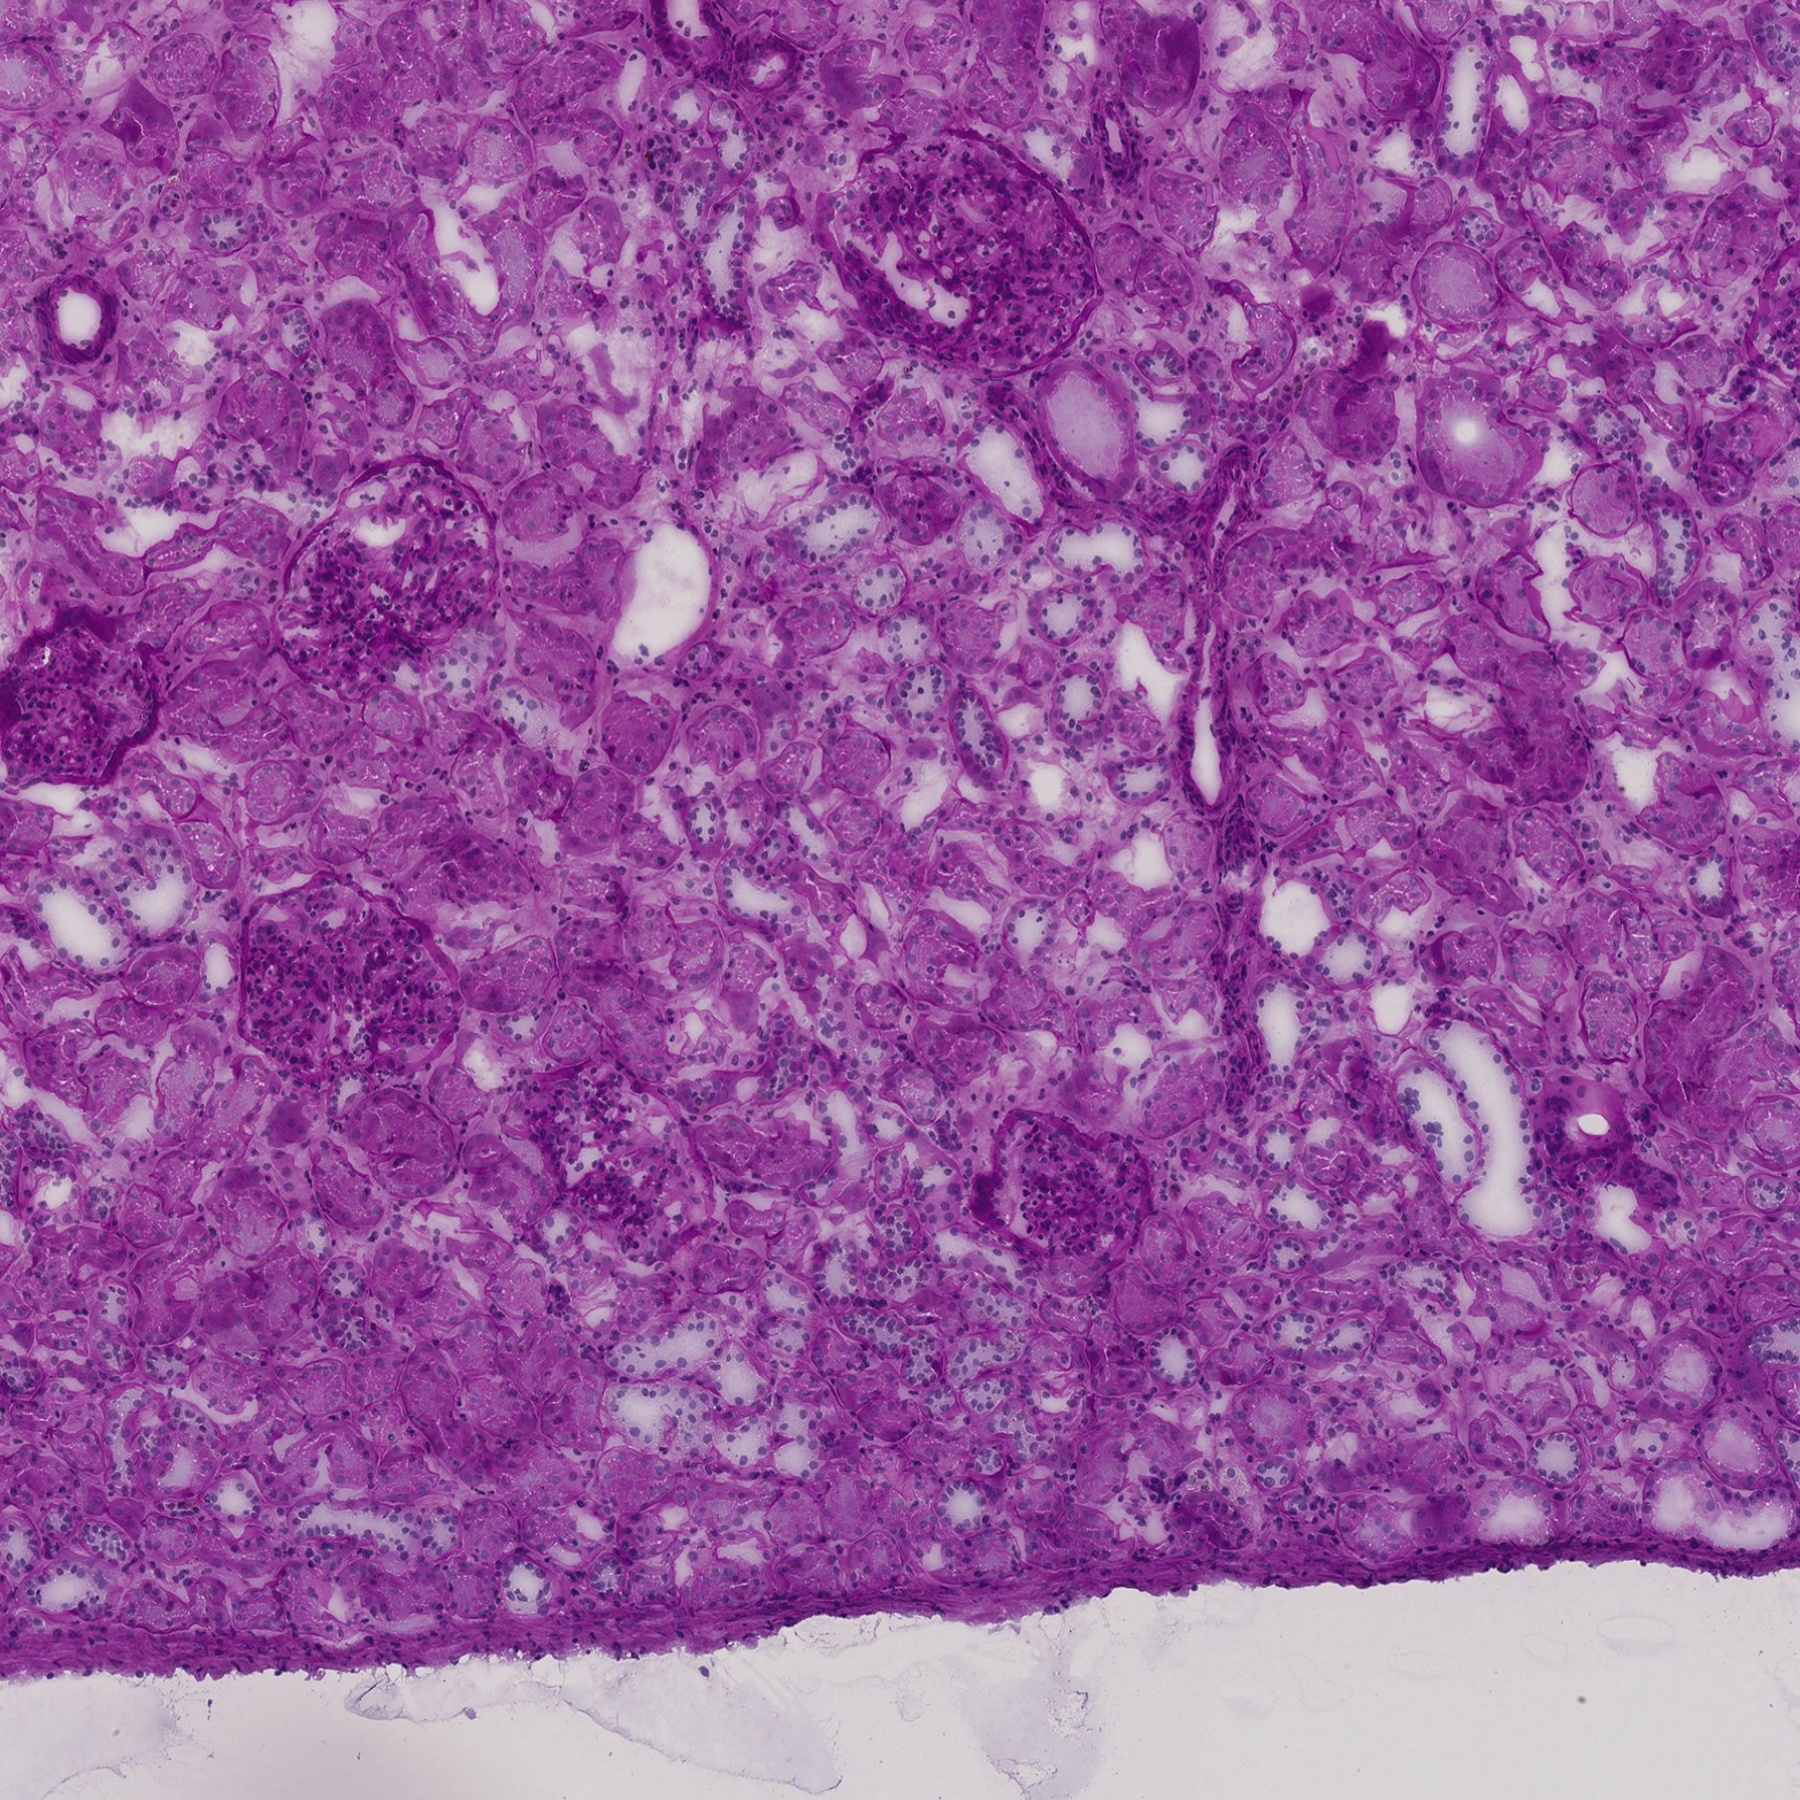Glomeruli: (824, 125, 1108, 384), (231, 870, 475, 1086), (274, 453, 503, 681), (531, 1062, 725, 1269), (2, 605, 163, 795), (981, 1104, 1164, 1259)
